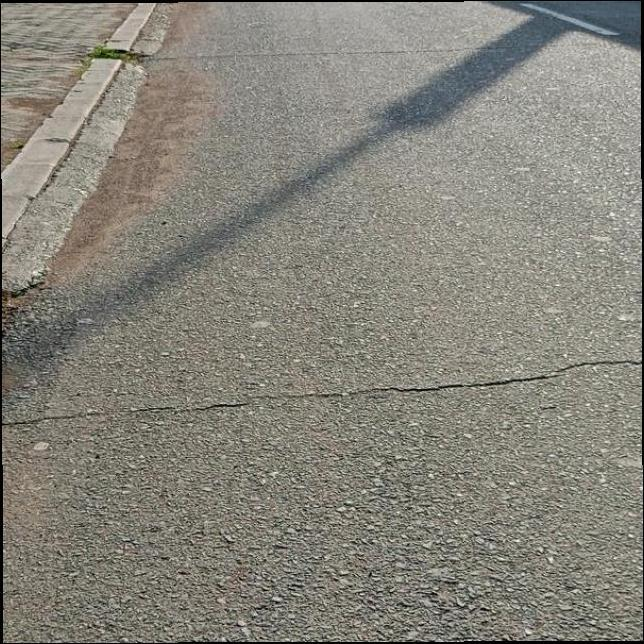Melintang: (3, 346, 644, 445)
